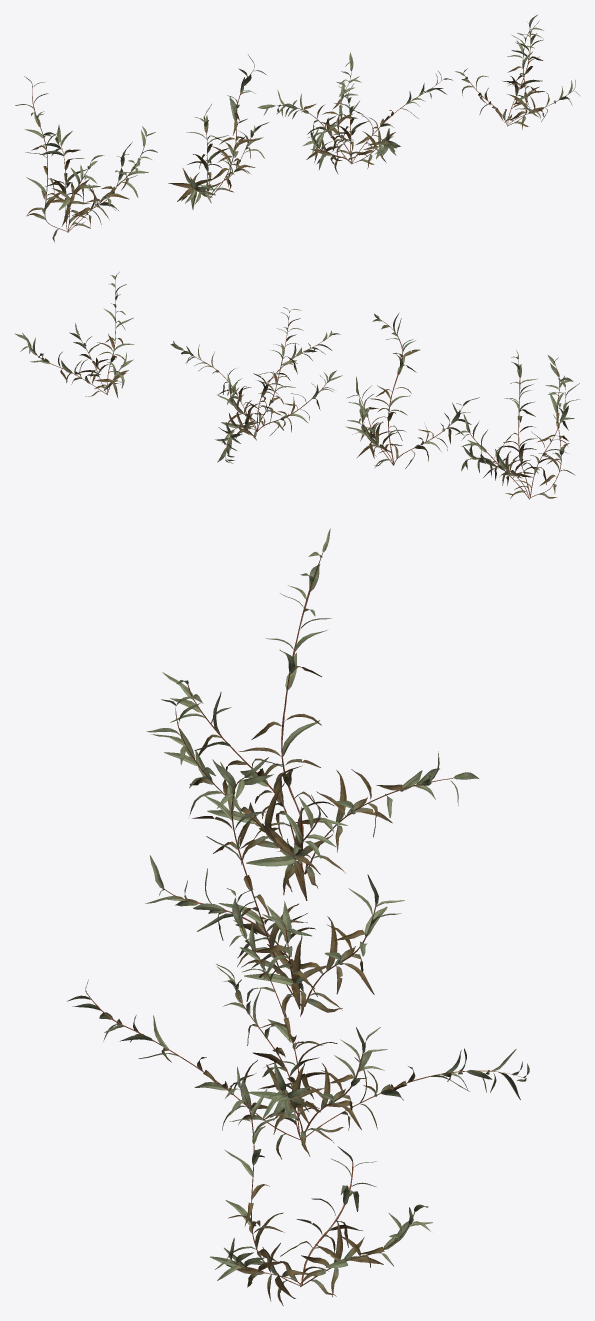
Rendered from shrub_02.gltf.
The picture shows the model from 3 angles, top to bottom: view 1: azimuth 30°, elevation 25°; view 2: azimuth 150°, elevation 25°; view 3: azimuth 270°, elevation 25°; orthographic projection. The views are drawn at different scales.
Parts seen in each view (by area): view 1: shrub_02_c, shrub_02_a, shrub_02_b, shrub_02_d; view 2: shrub_02_a, shrub_02_c, shrub_02_b, shrub_02_d; view 3: shrub_02_a, shrub_02_c, shrub_02_b, shrub_02_d.
Boxes of the visible parts, x1=… form: shrub_02_c: x1=257, y1=52, x2=452, y2=174; shrub_02_a: x1=15, y1=76, x2=157, y2=242; shrub_02_b: x1=168, y1=54, x2=268, y2=209; shrub_02_d: x1=455, y1=14, x2=580, y2=129; shrub_02_a: x1=455, y1=350, x2=579, y2=499; shrub_02_c: x1=170, y1=307, x2=342, y2=463; shrub_02_b: x1=345, y1=313, x2=479, y2=468; shrub_02_d: x1=14, y1=272, x2=134, y2=398; shrub_02_a: x1=146, y1=528, x2=478, y2=900; shrub_02_c: x1=67, y1=888, x2=529, y2=1159; shrub_02_b: x1=145, y1=757, x2=404, y2=1018; shrub_02_d: x1=210, y1=1066, x2=432, y2=1305.
Bounding box in the file's own units: 6.05 × 1.7 × 2.29.
Materials: 1 (1 with a texture image).
